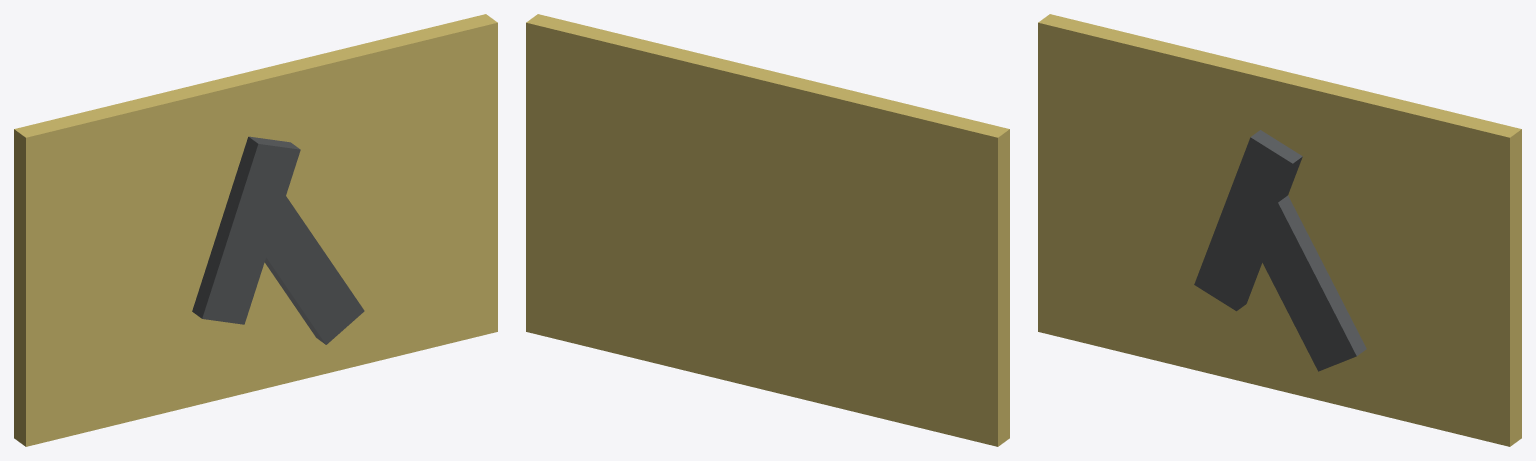
The model's file is warning_sign_lod0.glb.
3 renders of one model, left to right at view 1: azimuth 30°, elevation 25°; view 2: azimuth 150°, elevation 25°; view 3: azimuth 330°, elevation 25°, orthographic.
Visible parts, largest first — view 1: part_0, part_1, part_2; view 2: part_0; view 3: part_0, part_2, part_1.
Part boxes in pixels (box(x1,y1,x2,y2)): part_0: box(14, 14, 497, 446); part_1: box(192, 136, 300, 324); part_2: box(245, 196, 364, 344); part_0: box(526, 14, 1009, 446); part_0: box(1038, 14, 1521, 446); part_2: box(1237, 195, 1366, 371); part_1: box(1194, 130, 1302, 311).
Bounding box in the file's own units: 1.15 × 0.72 × 0.0925.
